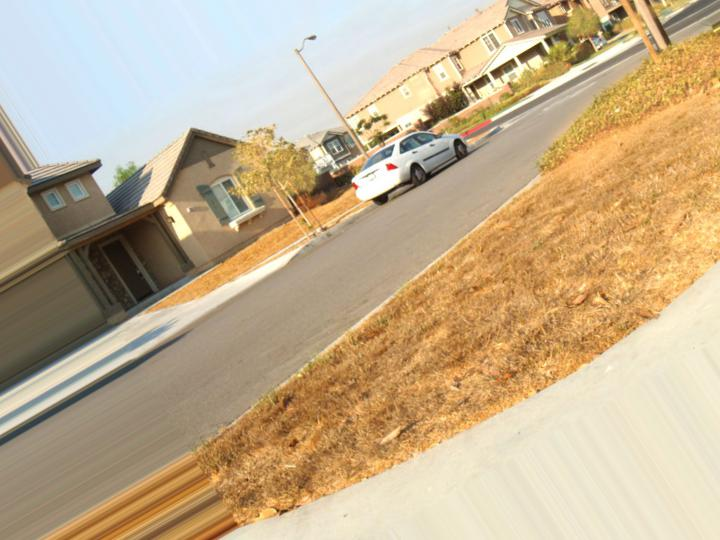patch: (353, 326, 496, 379), (233, 438, 335, 492), (563, 187, 664, 237), (639, 122, 720, 170), (467, 271, 580, 305), (325, 412, 428, 434), (514, 320, 567, 358), (286, 387, 342, 406), (220, 253, 272, 270), (517, 216, 546, 246), (434, 392, 467, 414), (258, 233, 300, 246), (295, 218, 317, 226), (192, 284, 209, 290)
